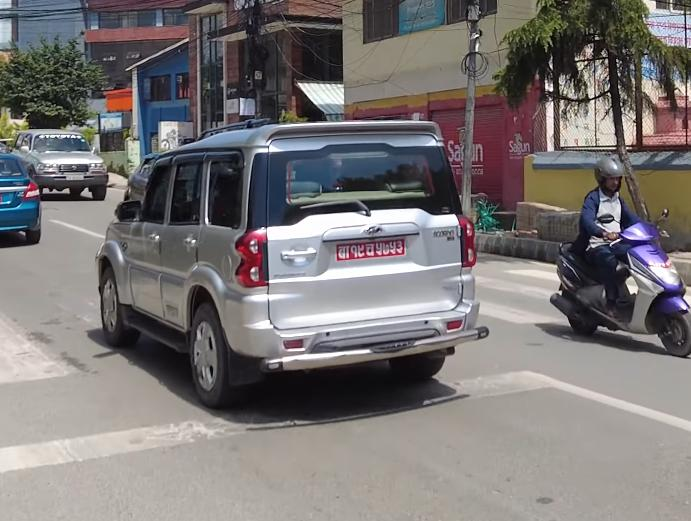SUV: (83, 108, 521, 409), (12, 126, 112, 202)
car: (0, 152, 48, 248)
scooter: (547, 206, 691, 359)
